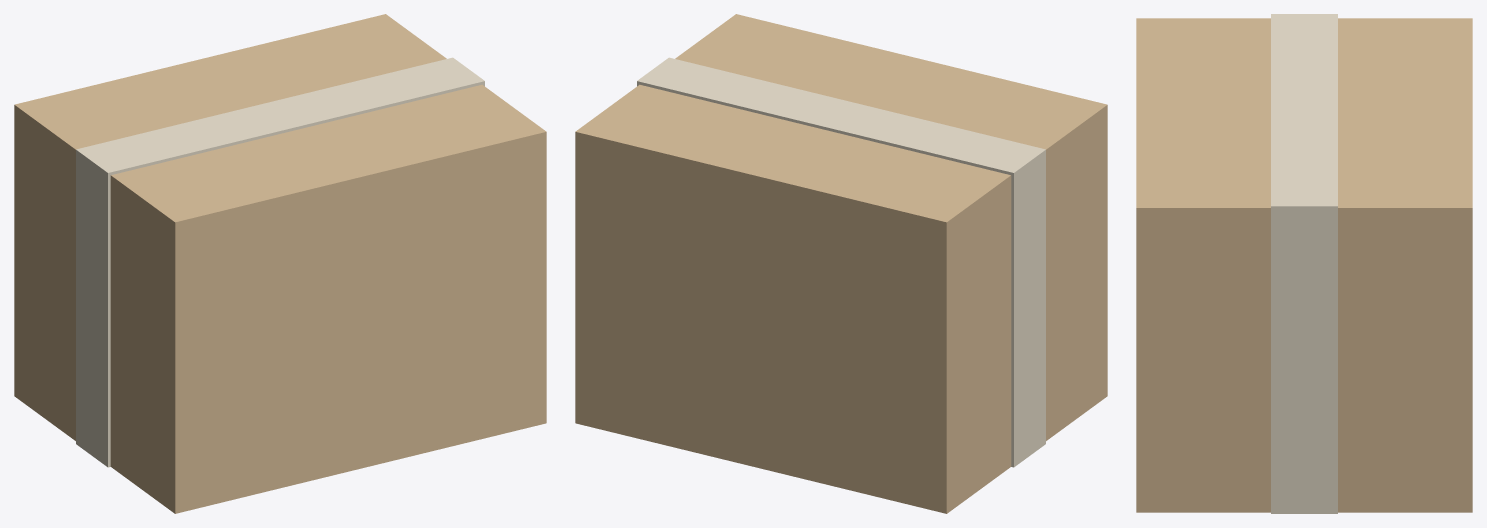
Rendered from caixa.glb.
3 views of the same model, side by side, from view 1: azimuth 30°, elevation 25°; view 2: azimuth 150°, elevation 25°; view 3: azimuth 270°, elevation 25° (orthographic). The views are drawn at different scales.
Visible parts, largest first — view 1: corpo; view 2: corpo; view 3: corpo.
Boxes of the visible parts, box(x1,y1,x2,y2) form: corpo: box(14, 14, 546, 513); corpo: box(575, 14, 1107, 513); corpo: box(1136, 14, 1472, 513).
Size of the model in its own units: 0.406 by 0.303 by 0.3.
